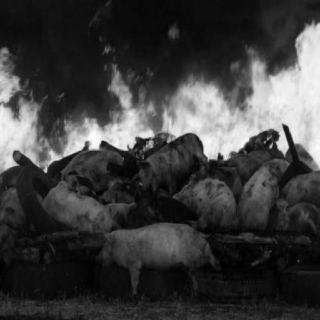Fire: (2, 14, 320, 178)
